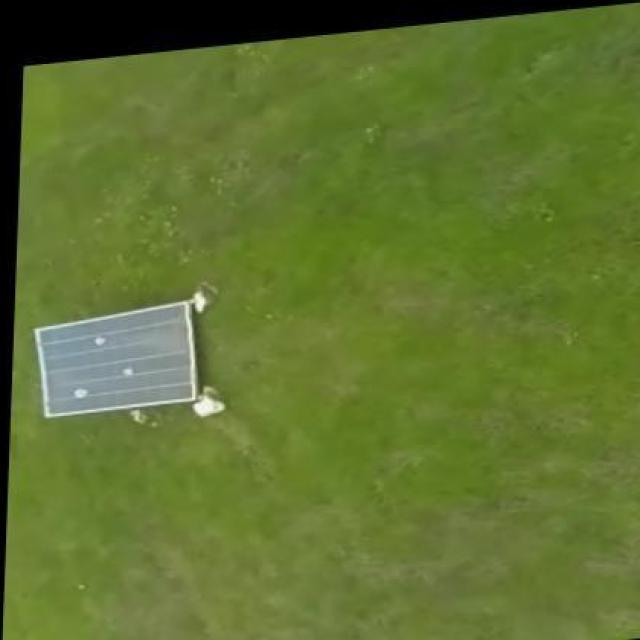soiled: (38, 299, 198, 419)
